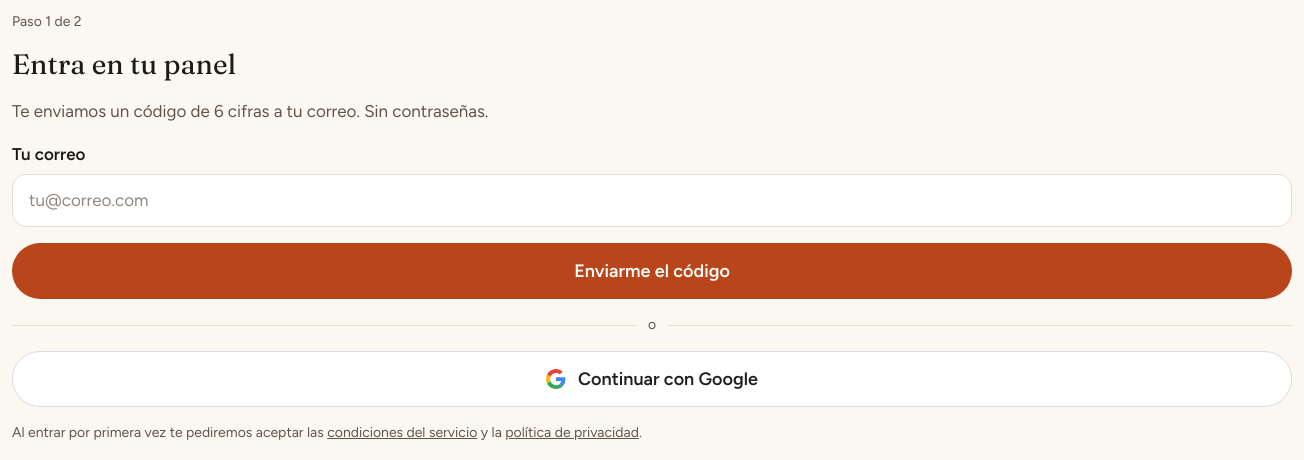
Scenario: FormularioEntrar › envía el código con el correo normalizado y siguiente, y muestra el error en el campo
Type "Bar@x.es" into the field labelled "Tu correo" at (652, 201), box x1=12 y1=174 x2=1292 y2=227
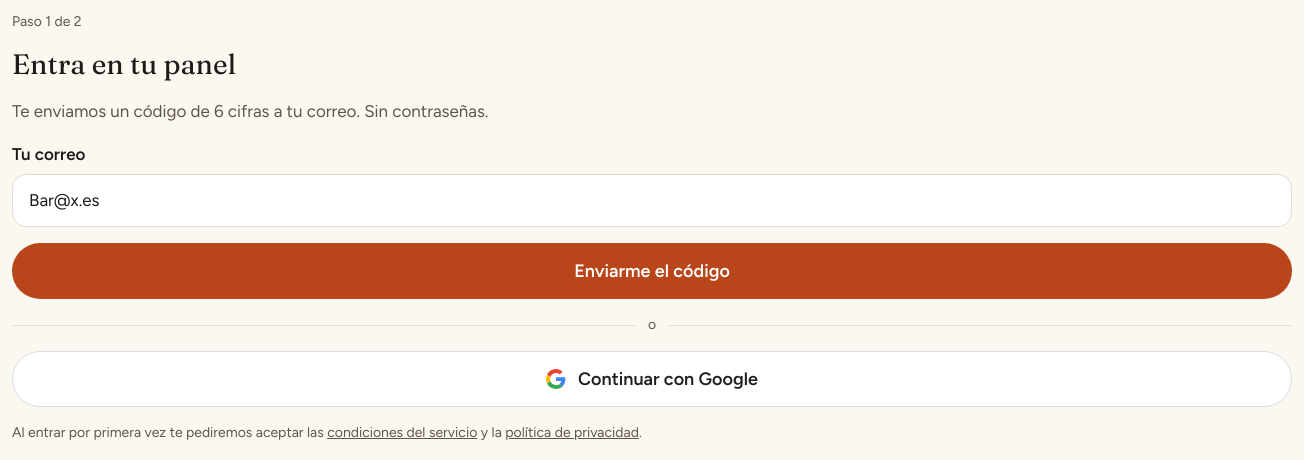
Click the button "Enviarme el código" at (652, 271), box x1=12 y1=243 x2=1292 y2=299
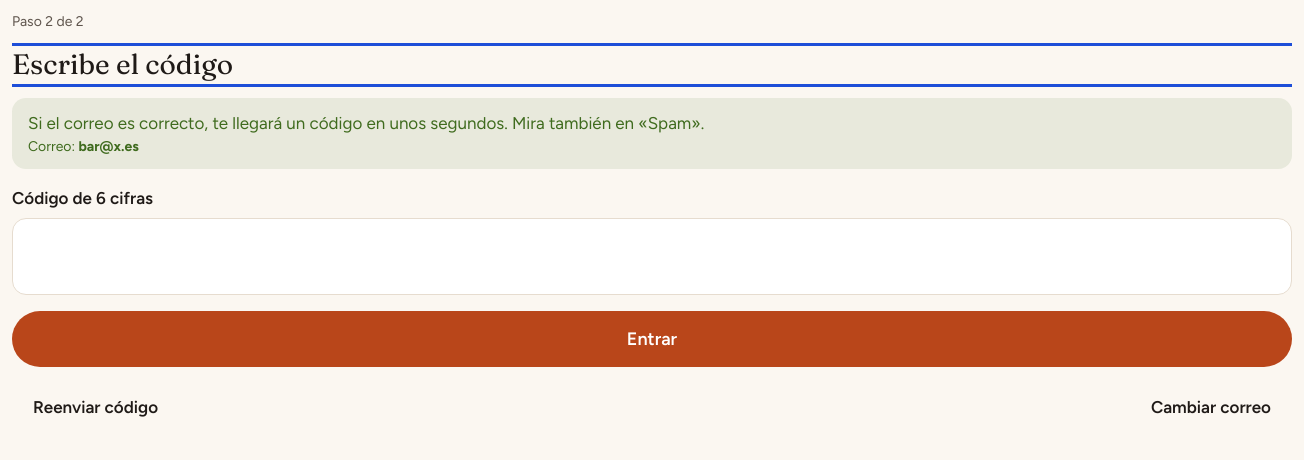
Expected: the field labelled "Código de 6 cifras" is shown
Type "000000" into the field labelled "Código de 6 cifras" at (652, 257), box x1=12 y1=218 x2=1292 y2=295
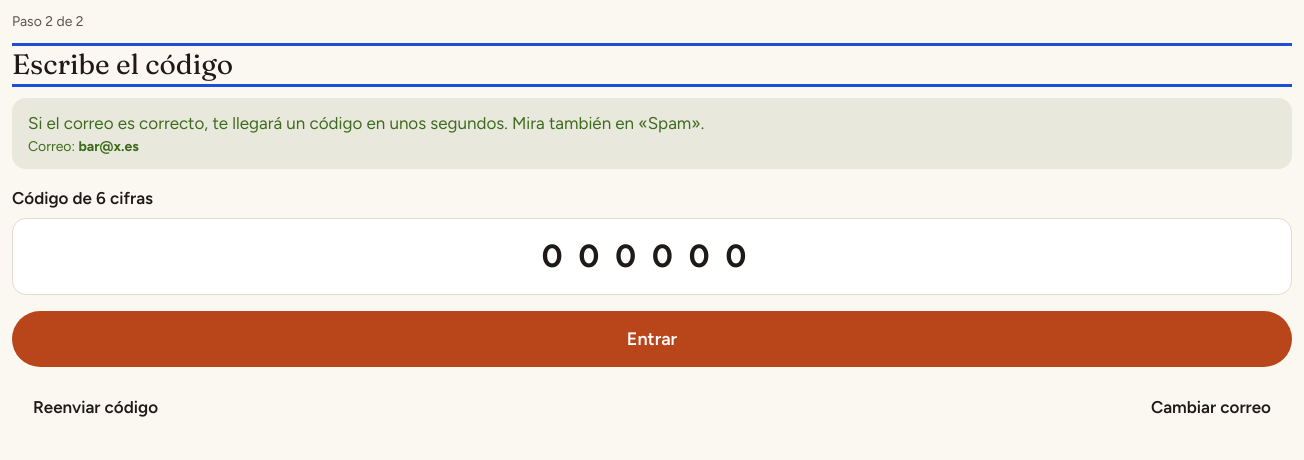
Click the button "Entrar" at (652, 339), box x1=12 y1=311 x2=1292 y2=367
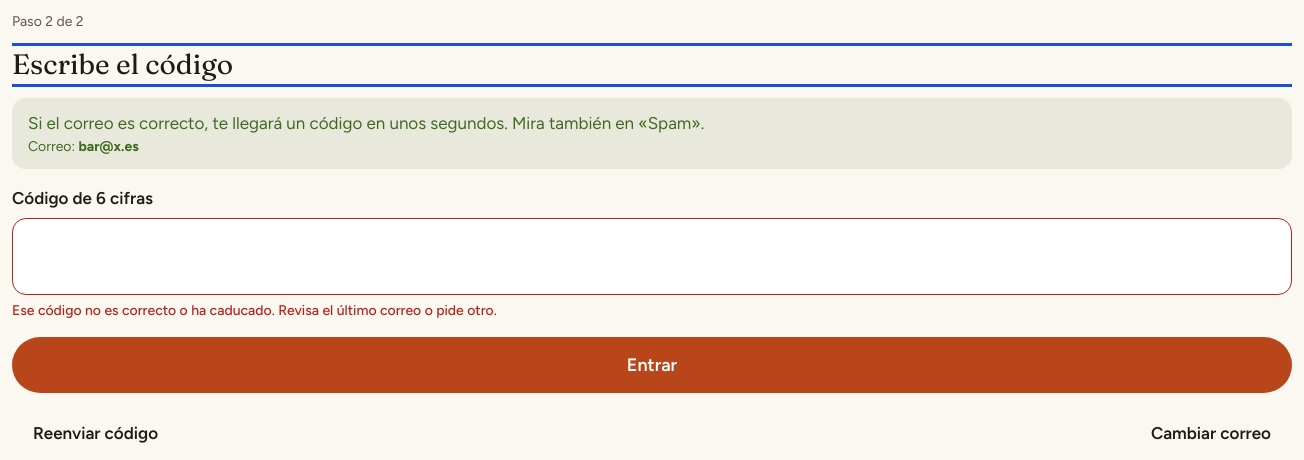
Expected: the text "bar@x.es" is shown, x1=78 y1=138 x2=139 y2=155
Expected: the message "Ese código no es correcto o ha caducado. Revisa el último correo o pide otro." is shown, x1=12 y1=302 x2=497 y2=319
